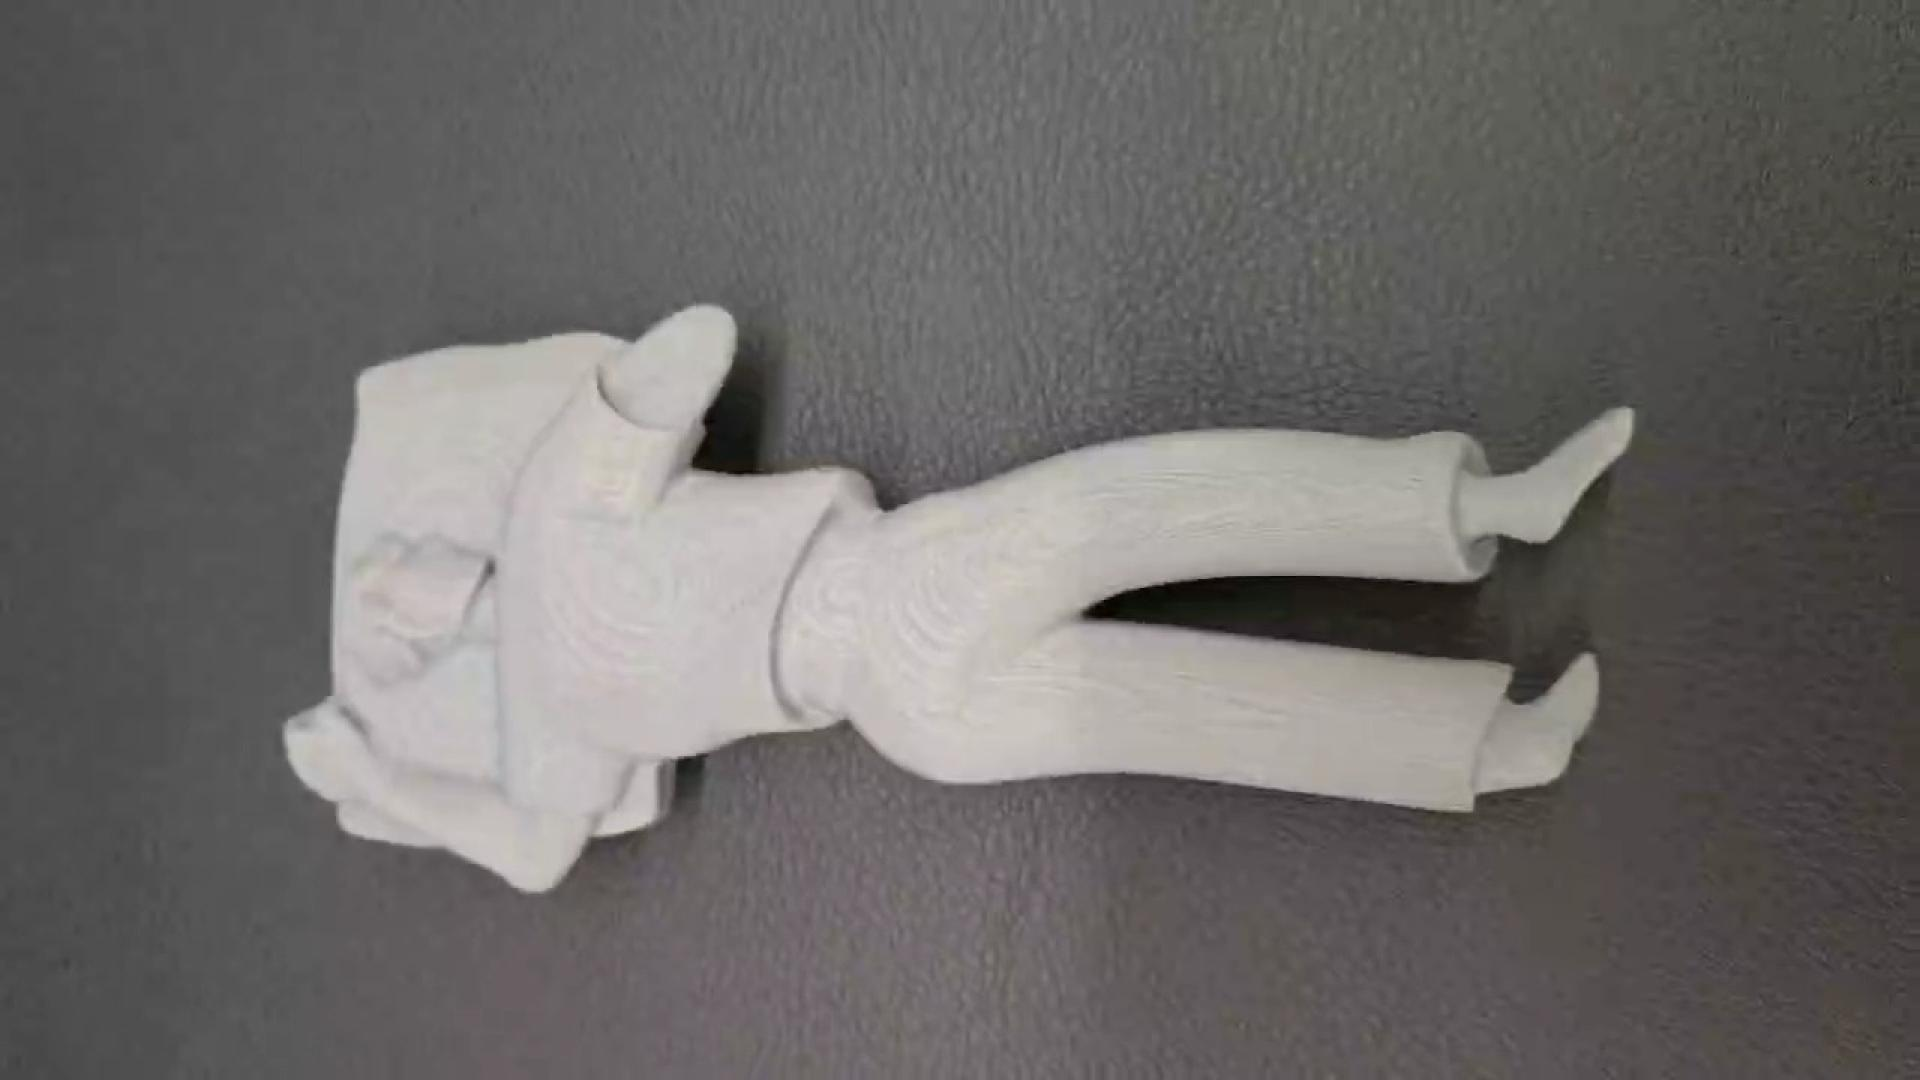Bad-style: (290, 303, 1638, 913)
